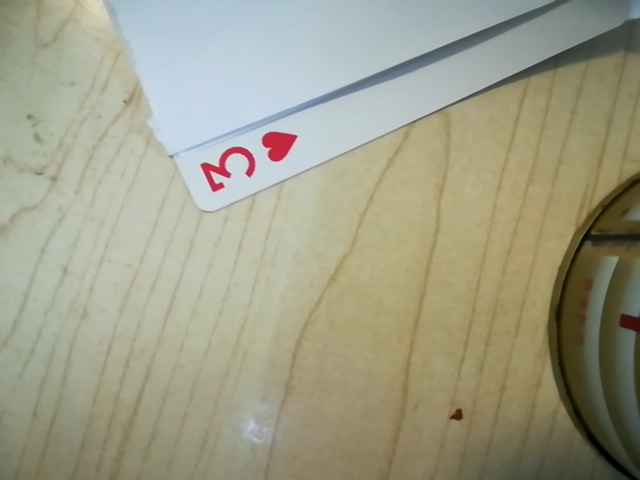hx 3: (190, 127, 296, 197)
